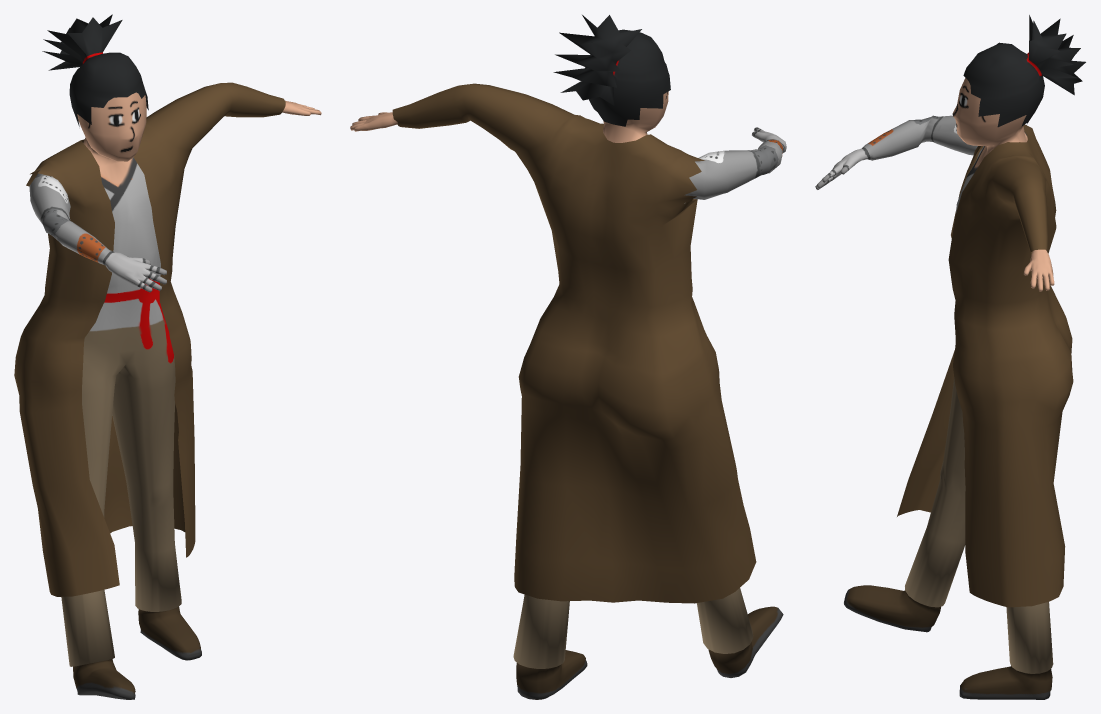
File: hero pose two.obj
3 renders of one model, left to right at view 1: azimuth 30°, elevation 25°; view 2: azimuth 150°, elevation 25°; view 3: azimuth 270°, elevation 25°, orthographic. The views are drawn at different scales.
Visible parts, largest first — view 1: jacket_Cube.003, modellll_Cube.002, hair_Cube.004; view 2: jacket_Cube.003, modellll_Cube.002, hair_Cube.004; view 3: jacket_Cube.003, modellll_Cube.002, hair_Cube.004.
Boxes of the visible parts, x1,y1,x2,y2 form: jacket_Cube.003: [14, 82, 285, 596]; modellll_Cube.002: [29, 92, 321, 699]; hair_Cube.004: [42, 14, 148, 126]; jacket_Cube.003: [392, 83, 756, 603]; modellll_Cube.002: [350, 91, 786, 699]; hair_Cube.004: [553, 15, 670, 126]; jacket_Cube.003: [897, 124, 1073, 607]; modellll_Cube.002: [815, 78, 1054, 699]; hair_Cube.004: [963, 15, 1085, 127].
Bounding box in the file's own units: 1.68 × 3.08 × 1.18.
